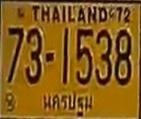1: (63, 27, 69, 86)
3: (24, 28, 42, 84), (94, 30, 111, 84)
5: (75, 28, 94, 86)
7: (7, 27, 24, 81)
8: (114, 29, 130, 84)
NPT: (40, 89, 94, 116)
